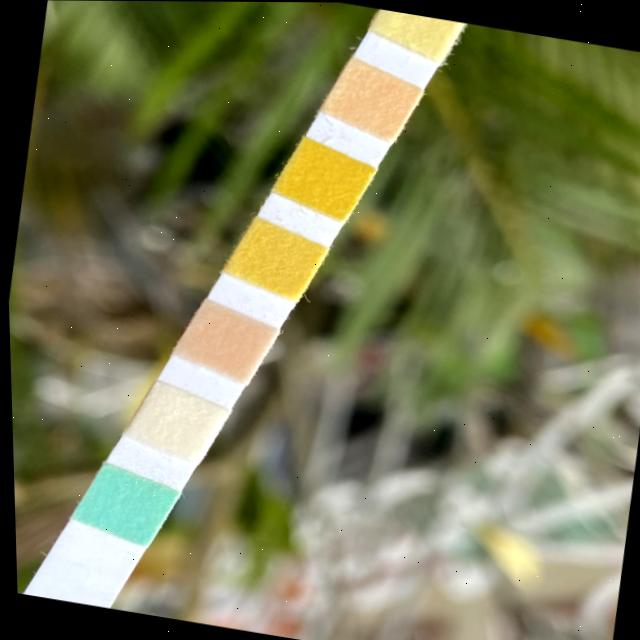Bilirubin: (141, 395, 208, 448)
Blood: (285, 150, 356, 205)
Glucose: (86, 481, 155, 532)
Ketone: (186, 316, 255, 366)
Protein: (385, 9, 451, 43)
SpGravity: (238, 231, 307, 287)
pH: (335, 72, 405, 125)
